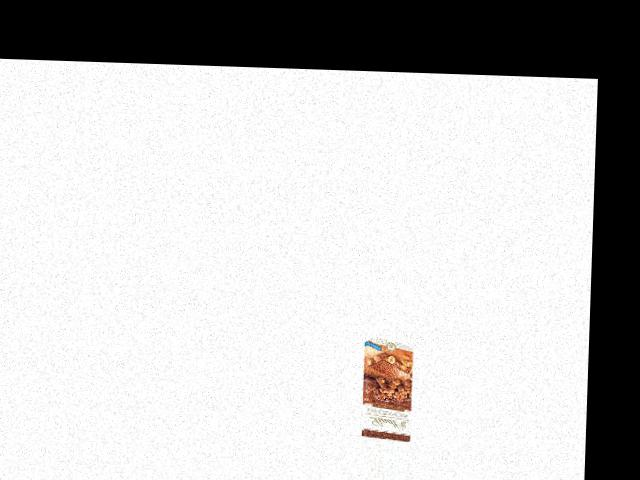chocolate: (358, 339, 421, 438)
